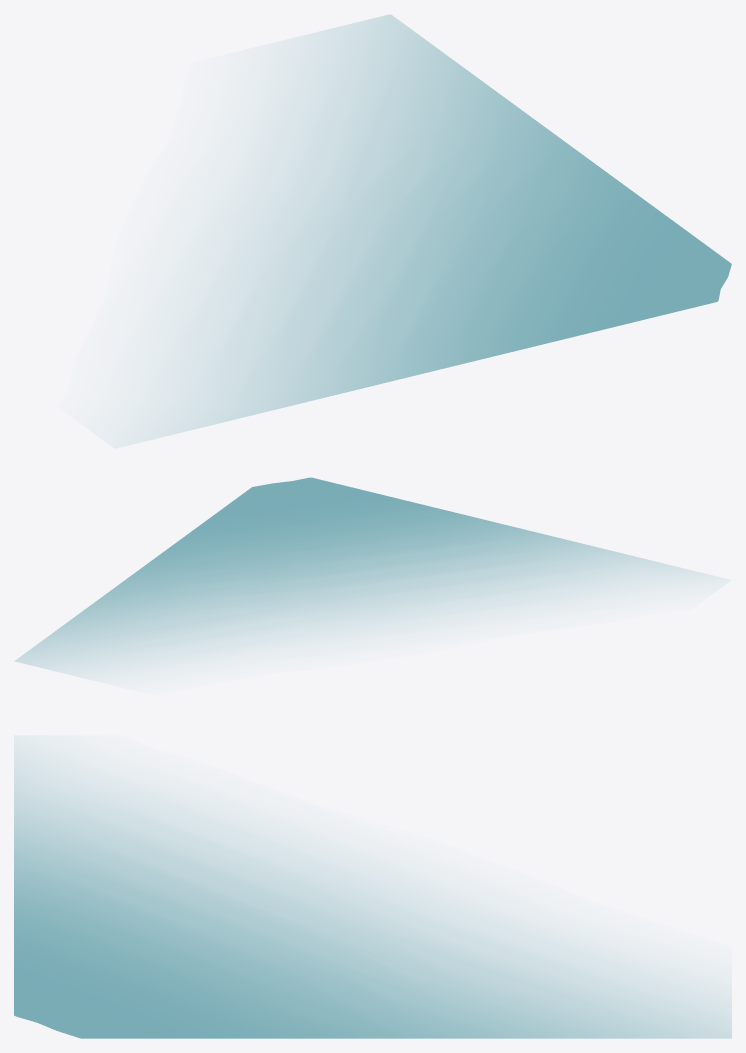
3 views of the same model, one above another, from view 1: azimuth 30°, elevation 25°; view 2: azimuth 150°, elevation 25°; view 3: azimuth 270°, elevation 25° (orthographic). The views are drawn at different scales.
Visible parts, largest first — view 1: city; view 2: city; view 3: city.
Part boxes in pixels (left/top/right/bottom): city: left=125, top=14, right=731, bottom=445; city: left=14, top=477, right=723, bottom=678; city: left=14, top=740, right=731, bottom=1038.
Bounding box in the file's own units: 500 × 0 × 500.
